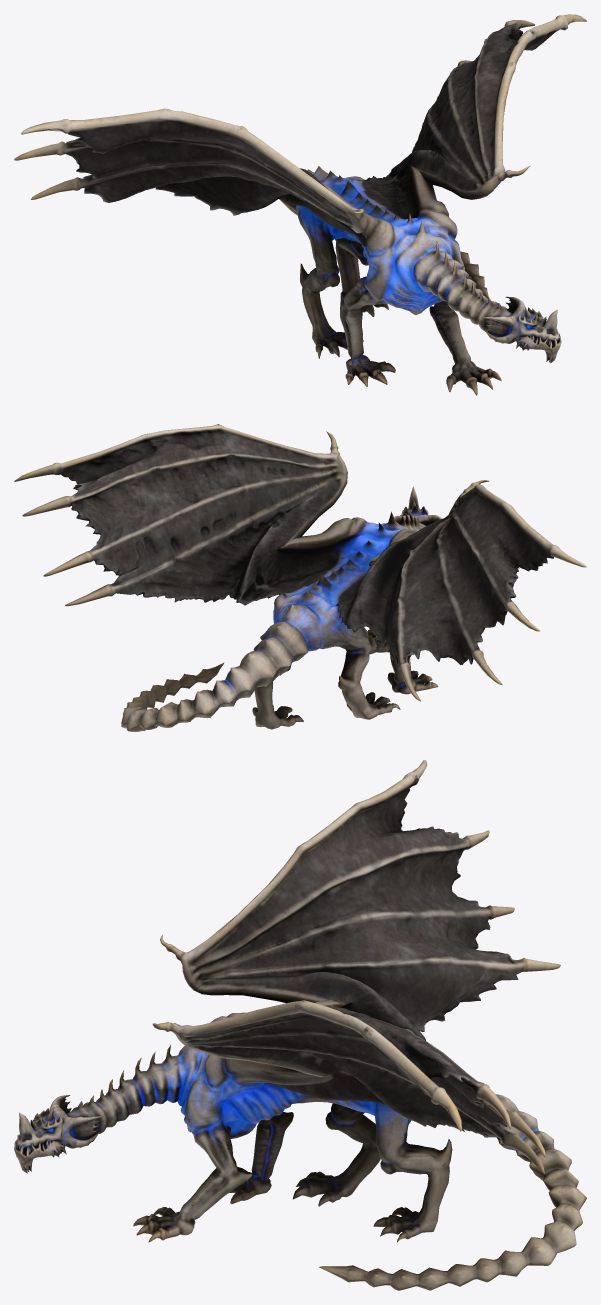
Rendered from MZ4250 - DracolichBlue.glb.
3 renders of one model, top to bottom at view 1: azimuth 30°, elevation 25°; view 2: azimuth 150°, elevation 25°; view 3: azimuth 270°, elevation 25°, orthographic. The views are drawn at different scales.
Parts seen in each view (by area): view 1: BlueDracolich.001; view 2: BlueDracolich.001; view 3: BlueDracolich.001.
Part boxes in pixels (x1,y1,x2,y2): BlueDracolich.001: (14,14,586,395); BlueDracolich.001: (14,424,586,731); BlueDracolich.001: (14,760,586,1290).
Bounding box in the file's own units: 253 × 111 × 189.
Materials: 1 (1 with a texture image).
